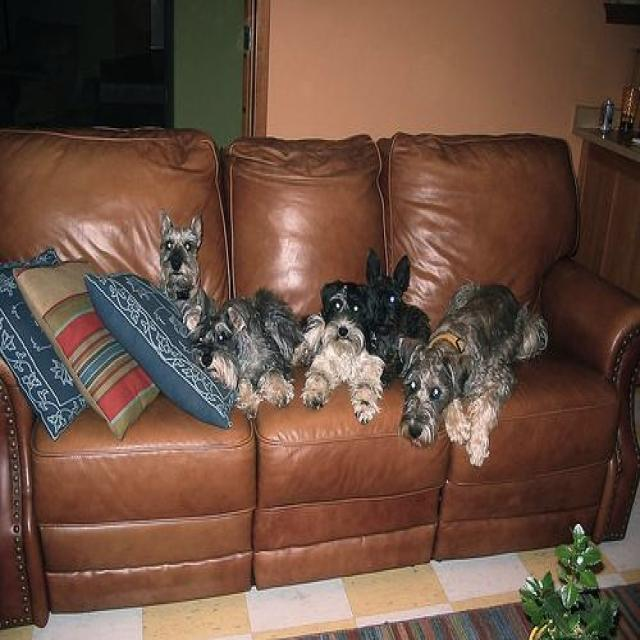standard_schnauzer: (398, 282, 548, 468), (294, 276, 388, 422), (154, 208, 220, 334)
